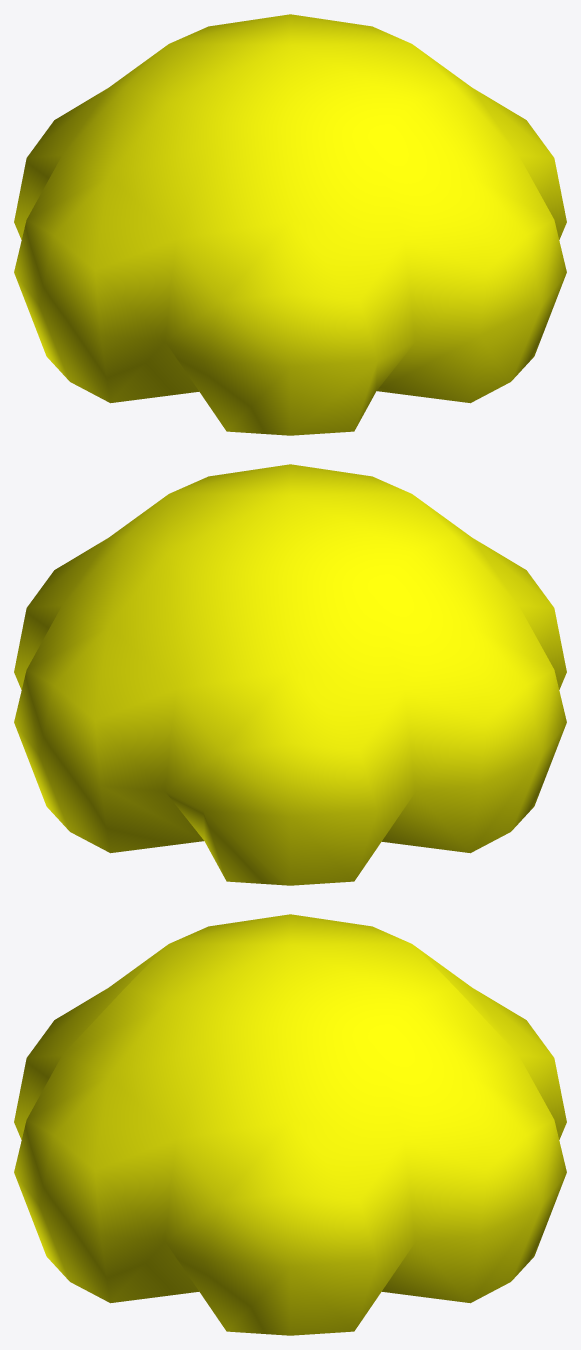
The model's file is Bush.glb.
3 views of the same model, one above another, from view 1: azimuth 30°, elevation 25°; view 2: azimuth 150°, elevation 25°; view 3: azimuth 270°, elevation 25° (orthographic).
Visible parts, largest first — view 1: bush; view 2: bush; view 3: bush.
Part boxes in pixels (x1=…): bush: x1=14, y1=14, x2=566, y2=435; bush: x1=14, y1=464, x2=566, y2=885; bush: x1=14, y1=914, x2=566, y2=1335.
Size of the model in its own units: 1 by 0.5385 by 0.9535.
1 material, 1 textured.
